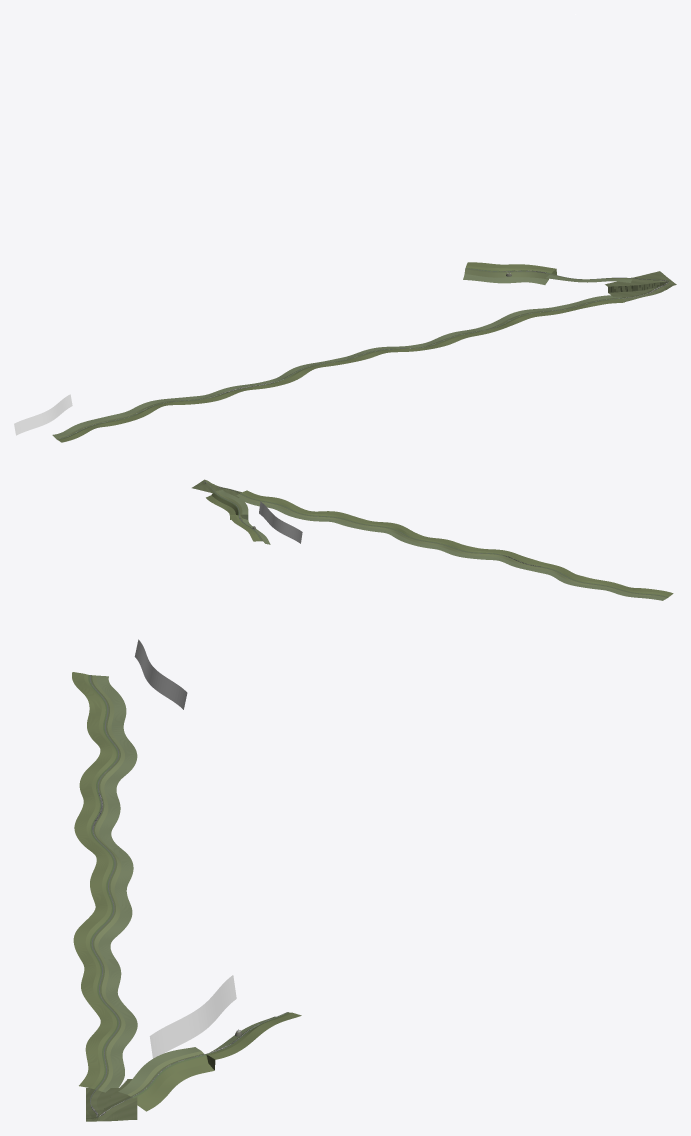
Rendered from penllech.glb.
The picture shows the model from 3 angles, top to bottom: view 1: azimuth 30°, elevation 25°; view 2: azimuth 150°, elevation 25°; view 3: azimuth 270°, elevation 25°; orthographic projection. The views are drawn at different scales.
Parts seen in each view (by area): view 1: Land_014, TremadogBay, Land_012, Land_010, Land_011; view 2: TremadogBay, Land_004, Land_005, Land_003, Land_008, Land_007, Land_006, Land_012, Land_009, Land_002, Land_000, Land_001 (+3 smaller); view 3: TremadogBay, Land_013, Land_012, Land_006, Land_002, Land_005, Land_009, Land_010, Land_003, Land_007, Land_008, Land_000 (+4 smaller).
Part boxes in pixels (x1=…): Land_014: x1=471, y1=262, x2=537, y2=283; TremadogBay: x1=14, y1=394, x2=72, y2=435; Land_012: x1=594, y1=272, x2=656, y2=292; Land_010: x1=568, y1=286, x2=631, y2=308; Land_011: x1=626, y1=271, x2=676, y2=299; TremadogBay: x1=259, y1=501, x2=302, y2=543; Land_004: x1=462, y1=546, x2=515, y2=562; Land_005: x1=423, y1=537, x2=469, y2=557; Land_003: x1=504, y1=553, x2=552, y2=573; Land_008: x1=305, y1=511, x2=355, y2=525; Land_007: x1=346, y1=517, x2=398, y2=533; Land_006: x1=387, y1=524, x2=429, y2=547; Land_012: x1=194, y1=485, x2=237, y2=508; Land_009: x1=268, y1=497, x2=310, y2=519; Land_002: x1=544, y1=564, x2=585, y2=586; Land_000: x1=620, y1=587, x2=673, y2=600; Land_001: x1=579, y1=577, x2=629, y2=594; TremadogBay: x1=134, y1=639, x2=236, y2=1058; Land_013: x1=141, y1=1047, x2=237, y2=1086; Land_012: x1=105, y1=1068, x2=174, y2=1117; Land_006: x1=74, y1=900, x2=132, y2=943; Land_002: x1=79, y1=747, x2=137, y2=789; Land_005: x1=90, y1=858, x2=133, y2=903; Land_009: x1=85, y1=1017, x2=137, y2=1057; Land_010: x1=79, y1=1053, x2=124, y2=1097; Land_003: x1=76, y1=785, x2=120, y2=829; Land_007: x1=73, y1=935, x2=121, y2=983; Land_008: x1=81, y1=976, x2=135, y2=1019; Land_000: x1=72, y1=672, x2=126, y2=714.
Size of the model in its own units: 12921 by 2189 by 5641.
